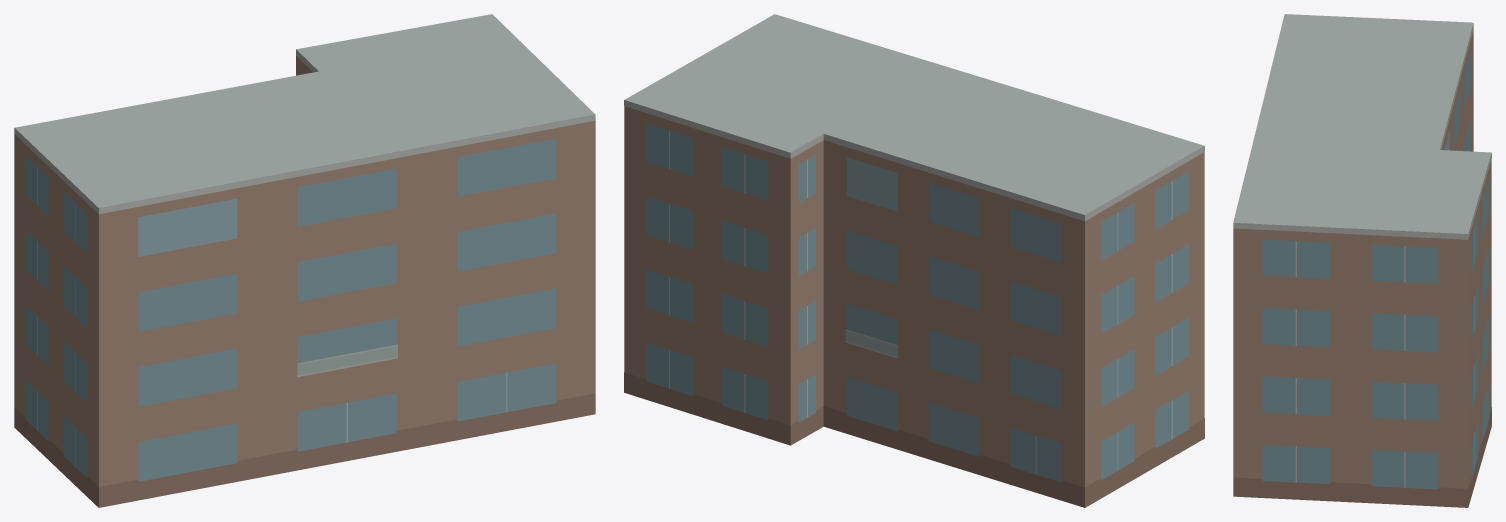
The model's file is survey-upis-33035541.glb.
3 views of the same model, side by side, from view 1: azimuth 30°, elevation 25°; view 2: azimuth 150°, elevation 25°; view 3: azimuth 270°, elevation 25° (orthographic). The views are drawn at different scales.
Parts seen in each view (by area): view 1: survey-upis-33035541.tmp; view 2: survey-upis-33035541.tmp; view 3: survey-upis-33035541.tmp.
Part boxes in pixels (x1,y1,x2,y2): survey-upis-33035541.tmp: (14,14,595,507); survey-upis-33035541.tmp: (624,14,1204,507); survey-upis-33035541.tmp: (1233,14,1491,507).
Bounding box in the file's own units: 20.22 × 11.72 × 10.05.
